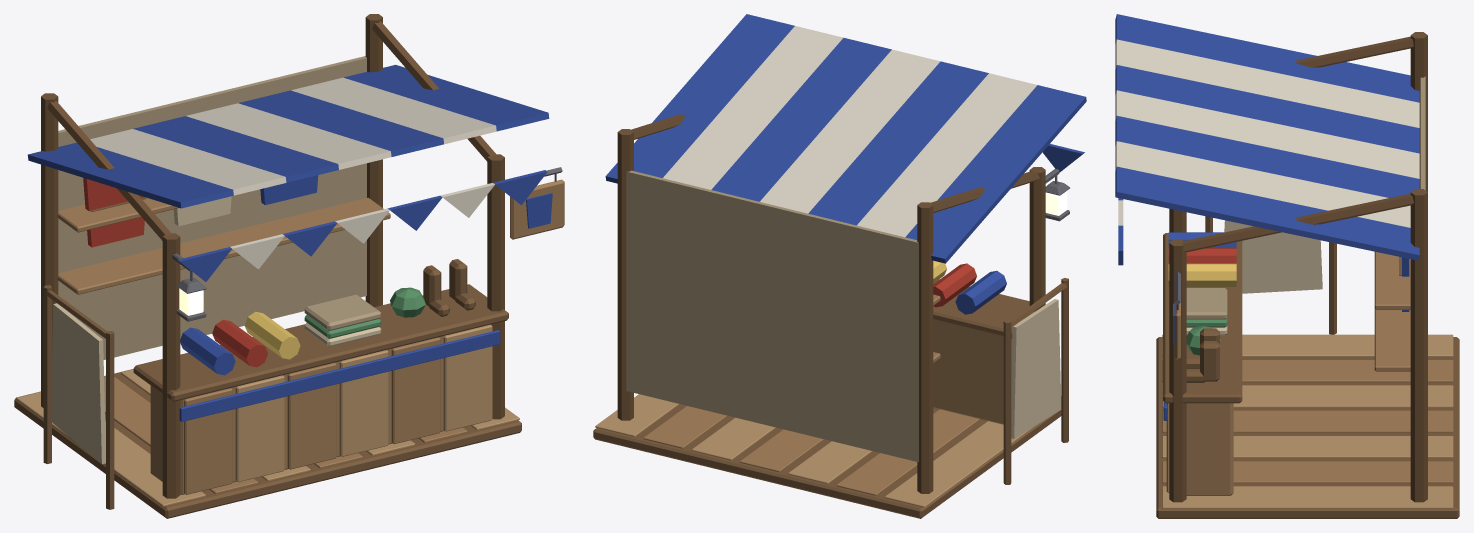
The model's file is stall_cloth.glb.
The picture shows the model from 3 angles, left to right: view 1: azimuth 30°, elevation 25°; view 2: azimuth 150°, elevation 25°; view 3: azimuth 270°, elevation 25°; orthographic projection. The views are drawn at different scales.
Visible parts, largest first — view 1: Stall; view 2: Stall; view 3: Stall.
Part boxes in pixels (left/top/right/bottom): Stall: left=14, top=14, right=564, bottom=518; Stall: left=593, top=14, right=1086, bottom=518; Stall: left=1115, top=14, right=1459, bottom=518.
Size of the model in its own units: 4.08 by 2.95 by 2.78.
